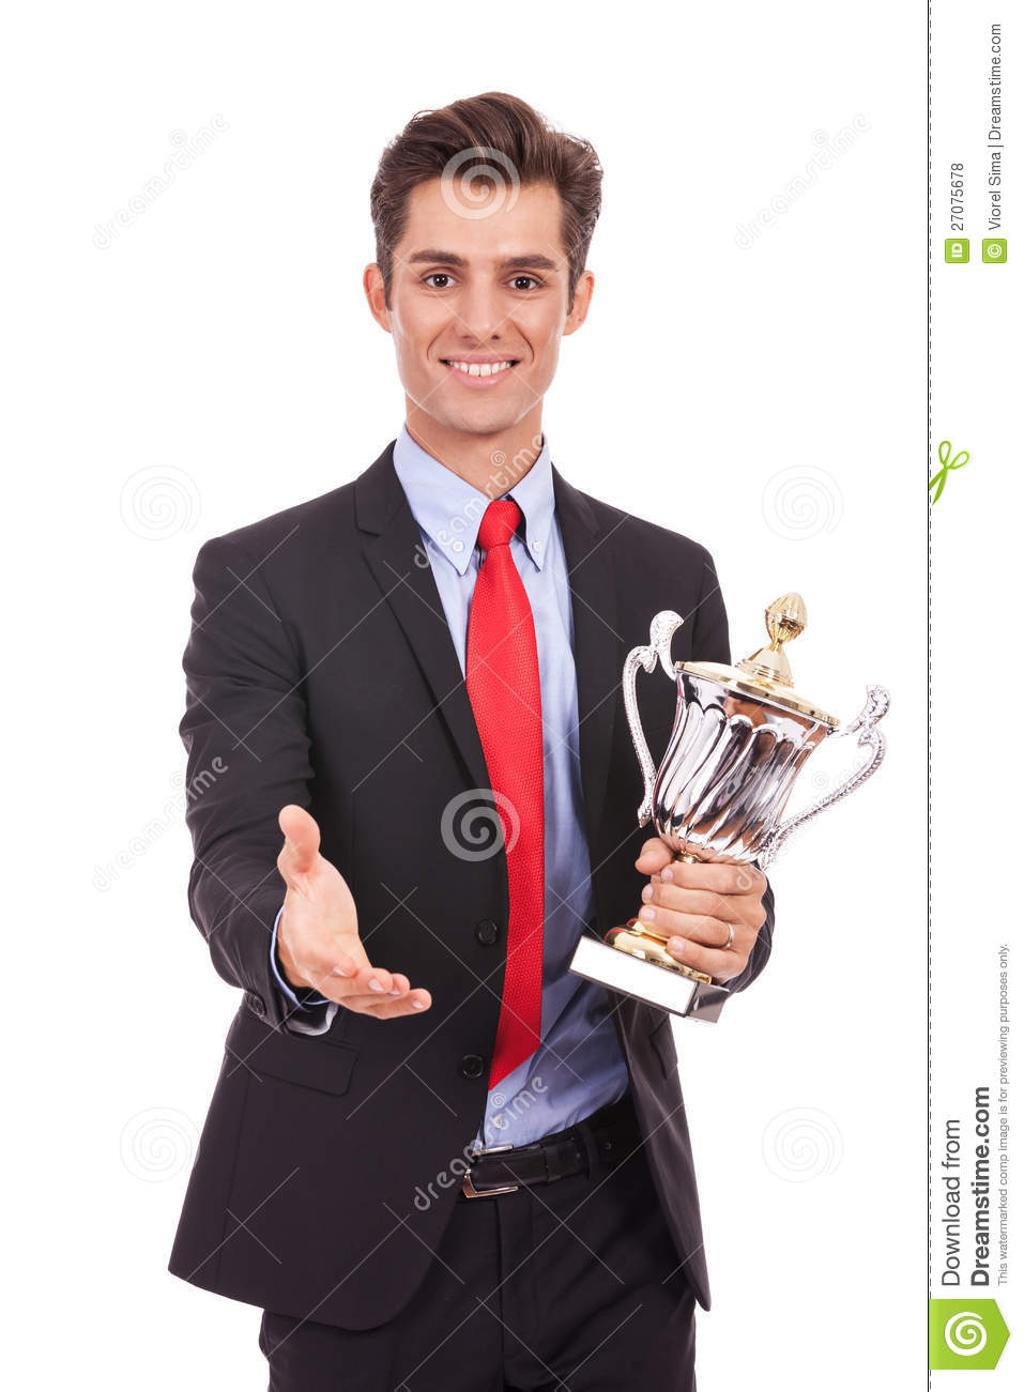face: (392, 178, 566, 436)
